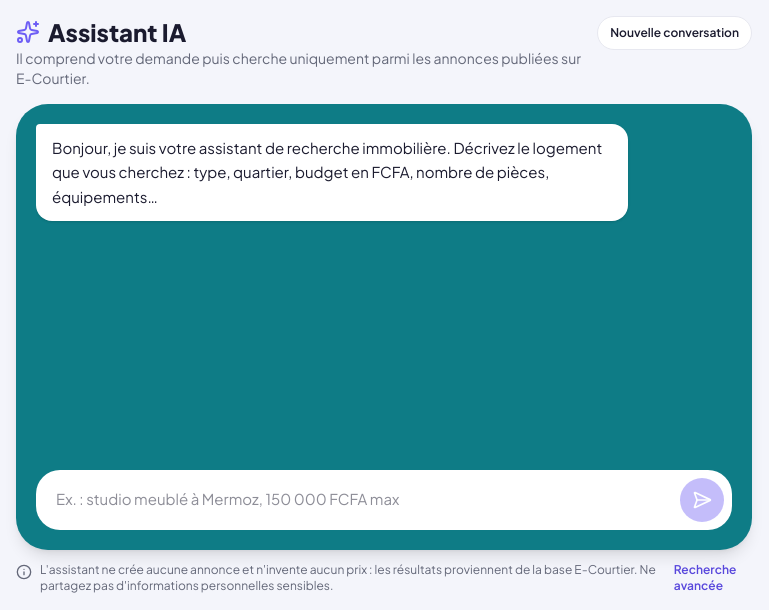
Test: Assistant › explique le dépassement de quota
Type "villa" into the text box named "Votre message" at (358, 500), box [44,478,672,522]
Then press Enter
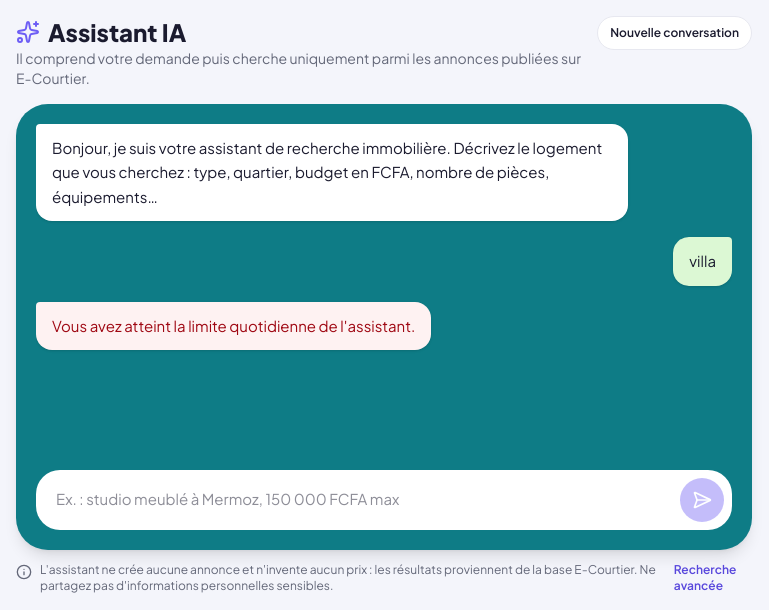
Now the text "Vous avez atteint la limite quotidienne de l'assistant." is shown, box [36,302,431,350]
